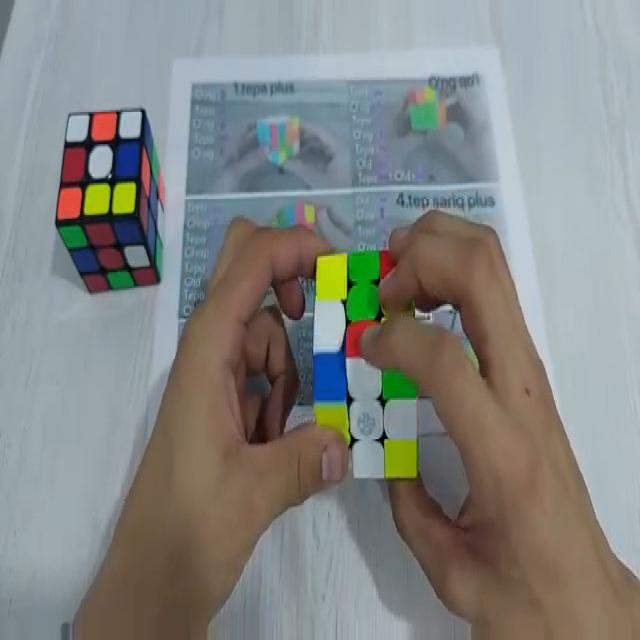Rub: (314, 251, 419, 483), (56, 107, 169, 302)
